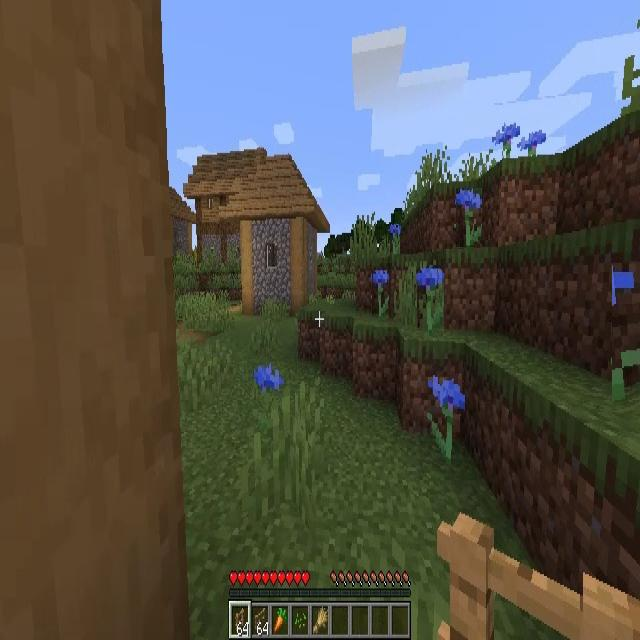flower: (612, 263, 640, 414), (427, 376, 465, 460), (417, 270, 444, 332), (456, 188, 482, 248), (252, 362, 284, 398), (492, 122, 519, 157), (518, 128, 547, 157), (372, 270, 389, 318), (390, 225, 400, 254)
